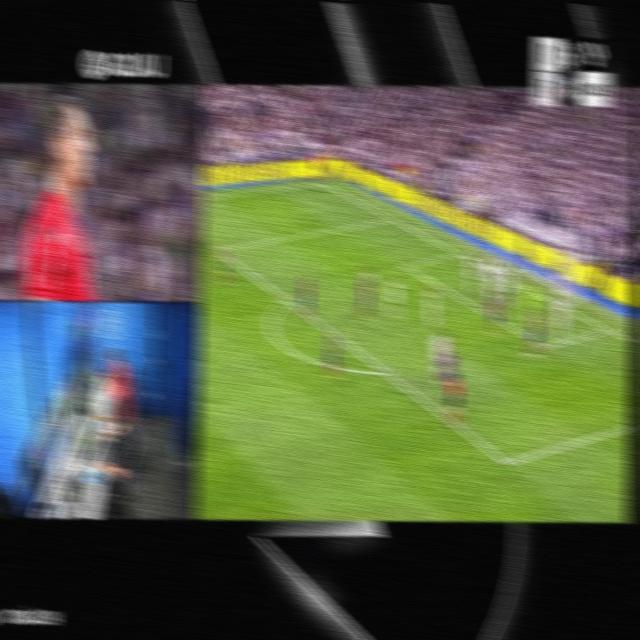bigarea_bottom_inner: (499, 450, 515, 475)
bigarea_top_inner: (213, 243, 224, 255)
bigarea_top_outter: (384, 211, 398, 223)
bottom_arc_area_intersection: (377, 361, 394, 381)
smallarea_bottom_inner: (537, 337, 552, 354)
smallarea_bottom_outter: (600, 320, 615, 338)
smallarea_top_inner: (399, 258, 413, 272)
smallarea_top_outter: (451, 246, 466, 258)
top_arc_area_intersection: (279, 291, 295, 307)
